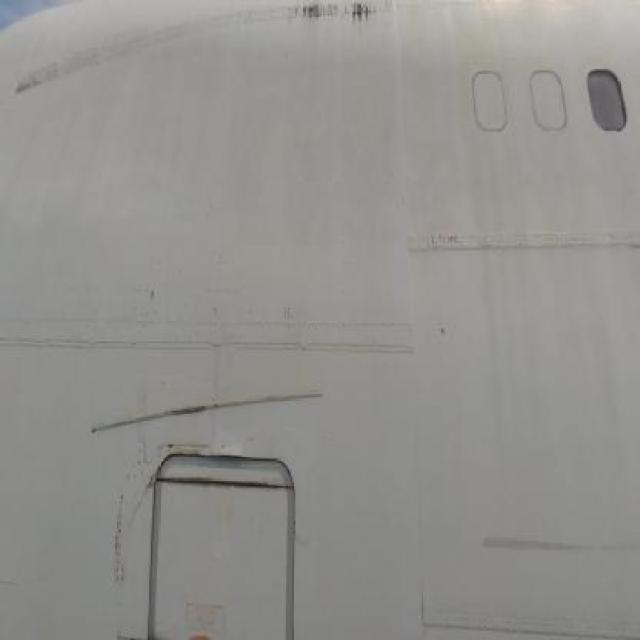Missing-Rivet: (565, 174, 604, 368)
Rust: (523, 28, 563, 220)
Scartch: (210, 60, 359, 148)
